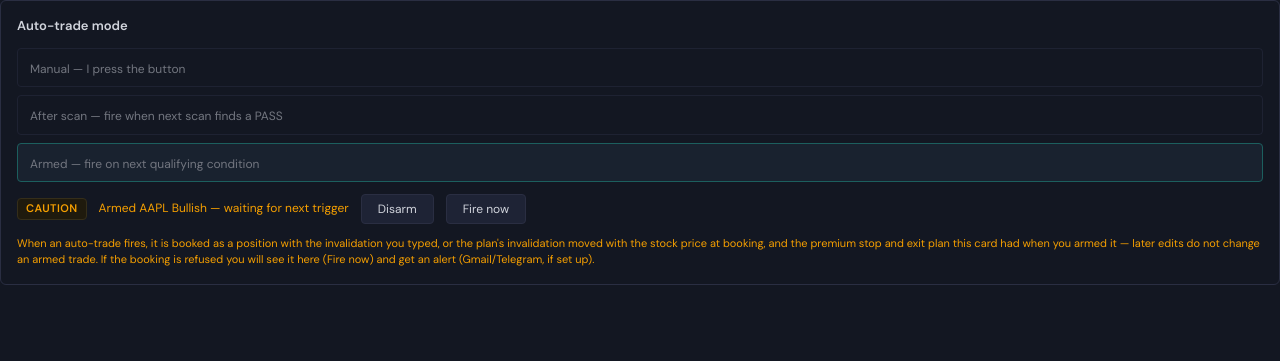
Scenario: AutoTradeArm — O4 step 6: reading the /fire result › 11. booked === false renders a caution naming the reason, and does not sync
The width and height of the screenshot is (1280, 361).
Step 1. Click the button "Fire now" → (486, 209), box 446,194 -> 526,224
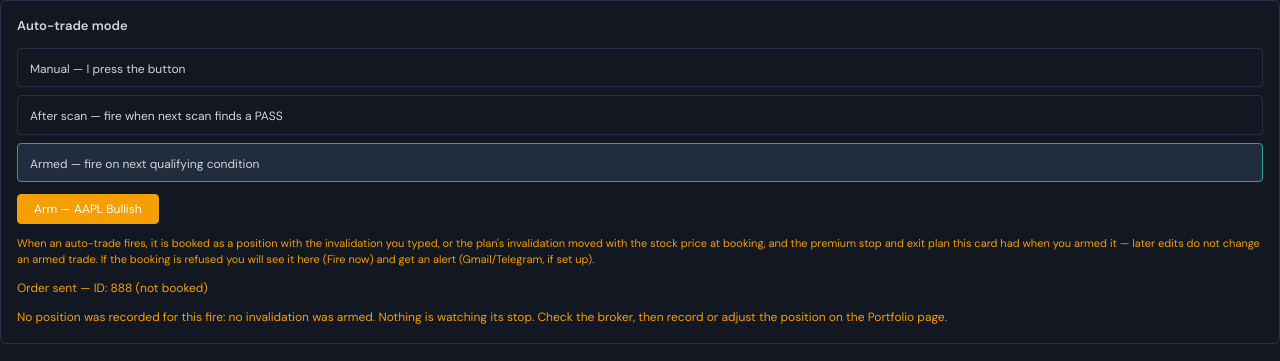
Expected: the text "No position was recorded for this fire: no invalidation was armed" is shown, 17,309 -> 947,325
